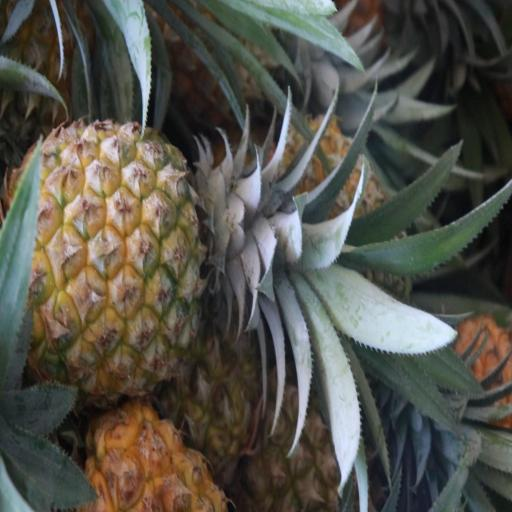Pineapple - v8 v1: (13, 118, 221, 398), (234, 324, 370, 512)
